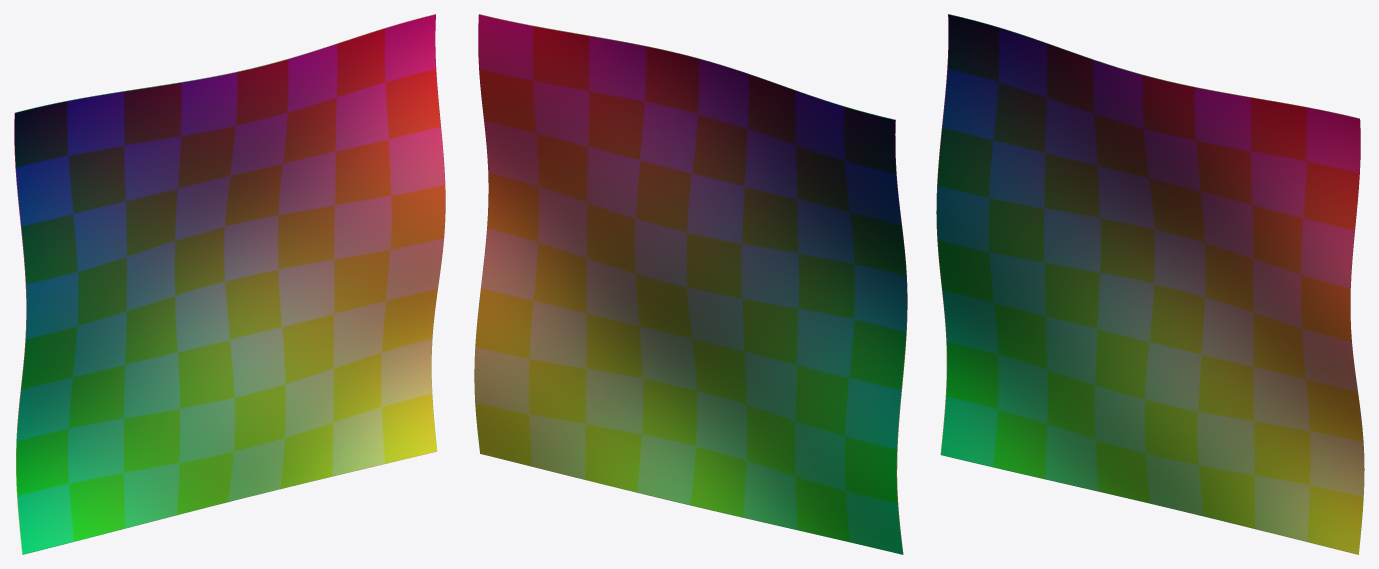
Rendered from Tile_+019_+019.obj.
3 renders of one model, left to right at view 1: azimuth 30°, elevation 25°; view 2: azimuth 150°, elevation 25°; view 3: azimuth 330°, elevation 25°, orthographic.
Bounding box in the file's own units: 100 × 100 × 6.08.
